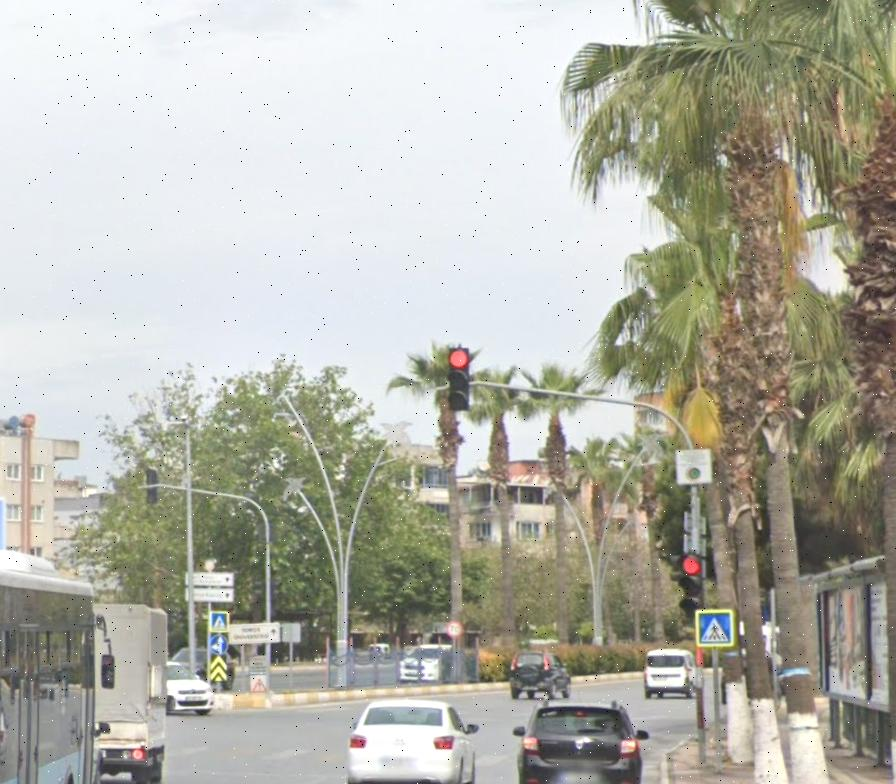redlight: (681, 550, 708, 618), (444, 347, 470, 412)
